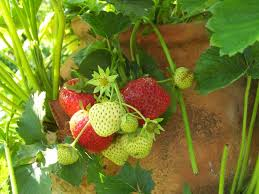ripe: (117, 74, 169, 120), (67, 109, 117, 153), (57, 77, 101, 118)
unripe: (88, 95, 124, 136), (119, 125, 156, 160), (101, 139, 131, 169), (54, 143, 80, 166), (172, 65, 195, 88), (121, 113, 138, 133)
